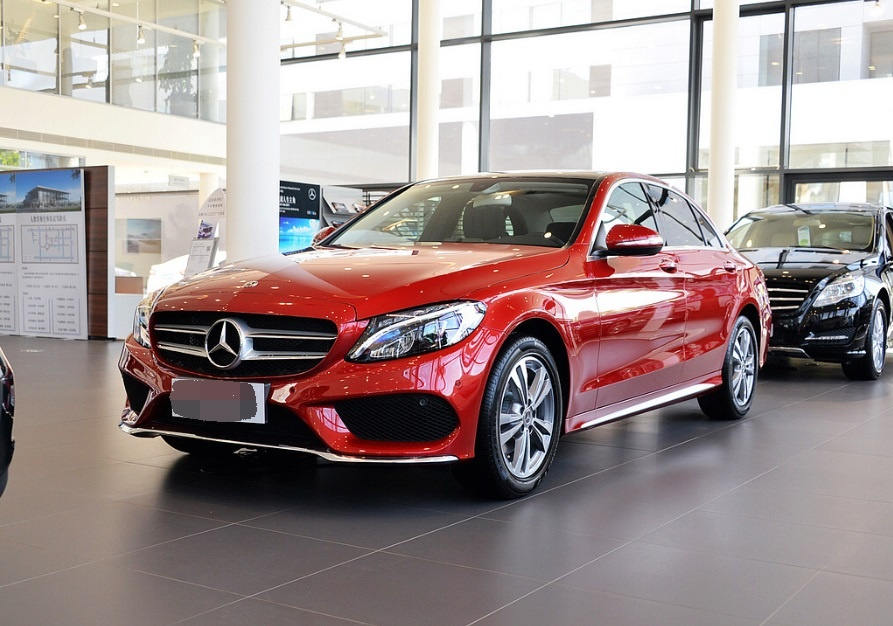family sedan: (132, 165, 774, 480)
